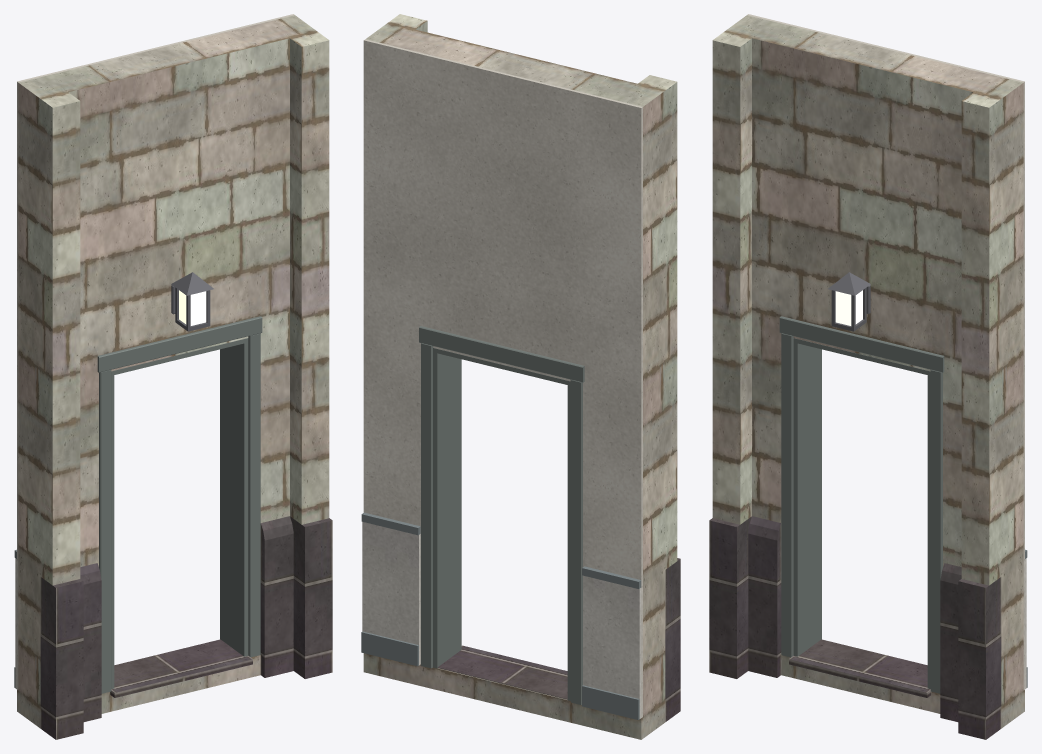
File: g_svc.glb
The picture shows the model from 3 angles, left to right: view 1: azimuth 30°, elevation 25°; view 2: azimuth 150°, elevation 25°; view 3: azimuth 330°, elevation 25°; orthographic projection.
Parts seen in each view (by area): view 1: g_svc_stone, g_svc_granite, g_svc_frame, g_svc_plaster, g_svc_iron, g_svc_lamp_glass; view 2: g_svc_plaster, g_svc_stone, g_svc_frame, g_svc_marble, g_svc_granite, g_svc_marble_d; view 3: g_svc_stone, g_svc_granite, g_svc_frame, g_svc_plaster, g_svc_iron, g_svc_lamp_glass.
Boxes of the visible parts, x1=… form: g_svc_stone: x1=17, y1=15, x2=329, y2=728; g_svc_granite: x1=40, y1=516, x2=332, y2=739; g_svc_frame: x1=97, y1=316, x2=262, y2=693; g_svc_plaster: x1=17, y1=14, x2=294, y2=690; g_svc_iron: x1=171, y1=272, x2=213, y2=331; g_svc_lamp_glass: x1=179, y1=290, x2=206, y2=325; g_svc_plaster: x1=363, y1=39, x2=642, y2=717; g_svc_stone: x1=363, y1=14, x2=677, y2=739; g_svc_frame: x1=419, y1=326, x2=584, y2=704; g_svc_marble: x1=362, y1=522, x2=641, y2=718; g_svc_granite: x1=437, y1=558, x2=680, y2=721; g_svc_marble_d: x1=361, y1=512, x2=641, y2=719; g_svc_stone: x1=712, y1=15, x2=1024, y2=728; g_svc_granite: x1=709, y1=516, x2=1001, y2=739; g_svc_frame: x1=779, y1=316, x2=944, y2=693; g_svc_plaster: x1=747, y1=14, x2=1024, y2=690; g_svc_iron: x1=828, y1=272, x2=870, y2=331; g_svc_lamp_glass: x1=835, y1=290, x2=862, y2=325.
Bounding box in the file's own units: 2 × 4.35 × 0.605.
Materials: 8 (4 with a texture image).
